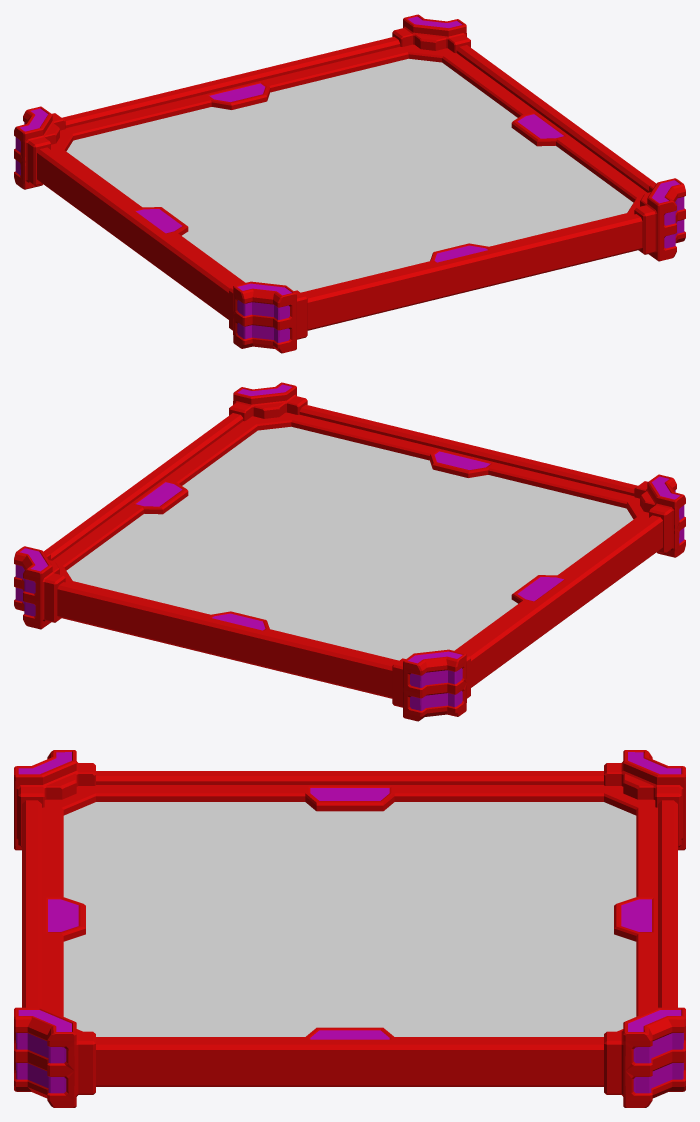
Rendered from MeObstacleVitre.FBX.
3 renders of one model, top to bottom at view 1: azimuth 30°, elevation 25°; view 2: azimuth 150°, elevation 25°; view 3: azimuth 270°, elevation 25°, orthographic. The views are drawn at different scales.
Parts seen in each view (by area): view 1: Object001, Box004; view 2: Object001, Box004; view 3: Object001, Box004.
Boxes of the visible parts, box(x1,y1,x2,y2) form: Object001: box(66, 58, 633, 292); Box004: box(14, 14, 685, 353); Object001: box(66, 426, 633, 660); Box004: box(14, 382, 685, 721); Object001: box(63, 802, 636, 1036); Box004: box(14, 750, 685, 1107).
Size of the model in its own units: 301 by 36.99 by 300.
